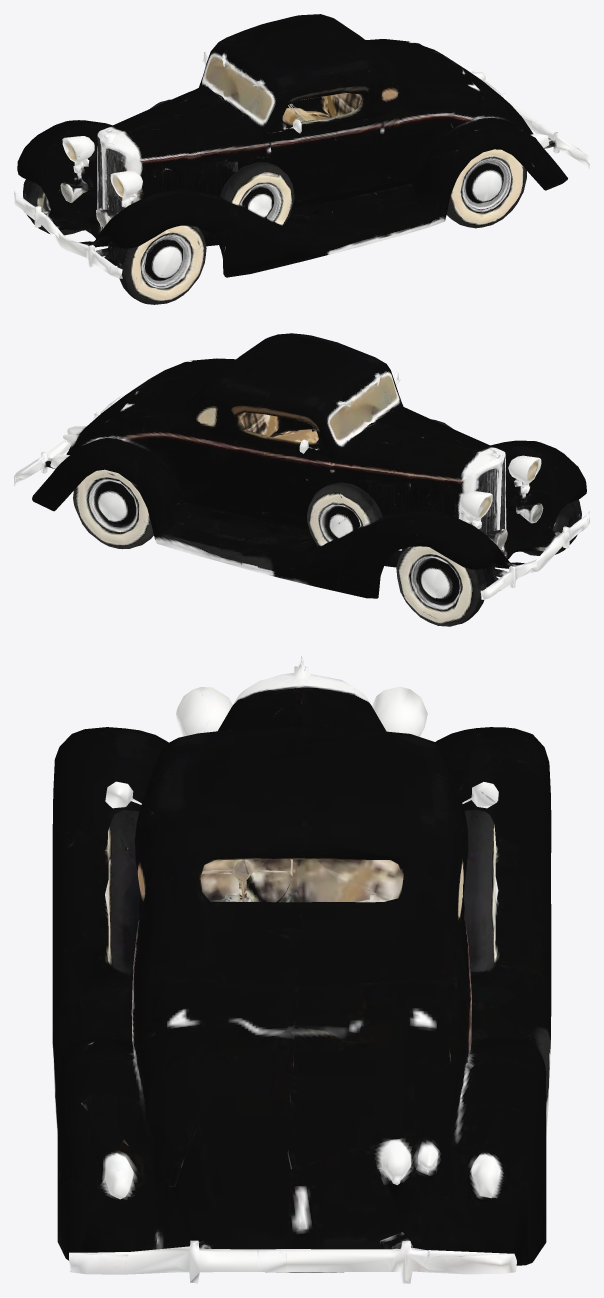
The model's file is mobil-klasik-lite.glb.
3 views of the same model, one above another, from view 1: azimuth 30°, elevation 25°; view 2: azimuth 150°, elevation 25°; view 3: azimuth 270°, elevation 25° (orthographic). The views are drawn at different scales.
Bounding box in the file's own units: 1.9 × 0.6871 × 0.8656.
Materials: 1 (1 with a texture image).
